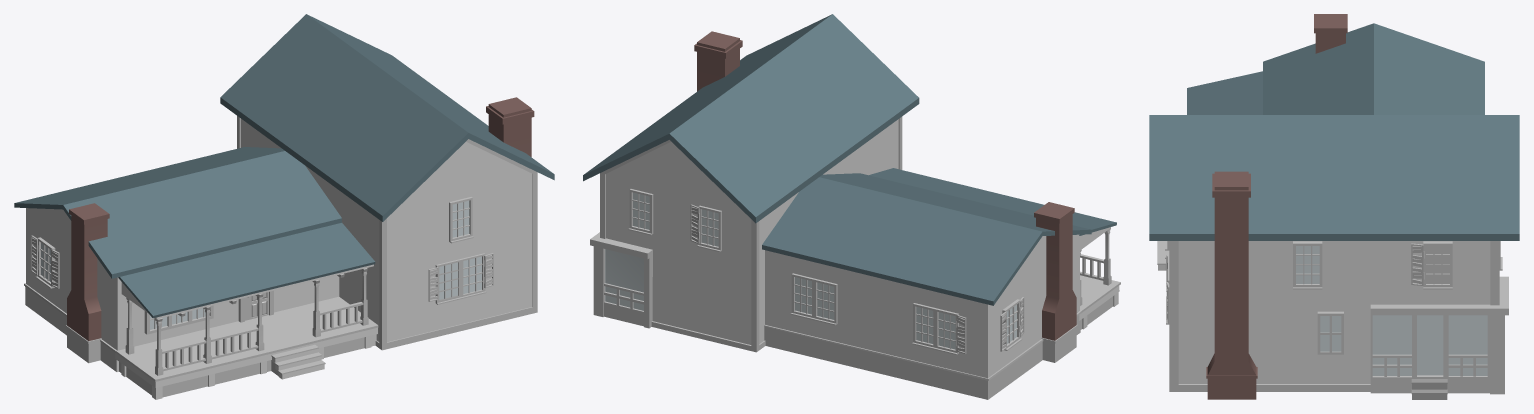
The model's file is 平民大房C.fbx.
3 renders of one model, left to right at view 1: azimuth 30°, elevation 25°; view 2: azimuth 150°, elevation 25°; view 3: azimuth 270°, elevation 25°, orthographic. The views are drawn at different scales.
Parts seen in each view (by area): view 1: pCube227; view 2: pCube227; view 3: pCube227.
Boxes of the visible parts, x1,y1,x2,y2 form: pCube227: (14,14,554,399); pCube227: (583,14,1120,399); pCube227: (1149,14,1519,399).
Bounding box in the file's own units: 19.49 × 9.41 × 13.5.
